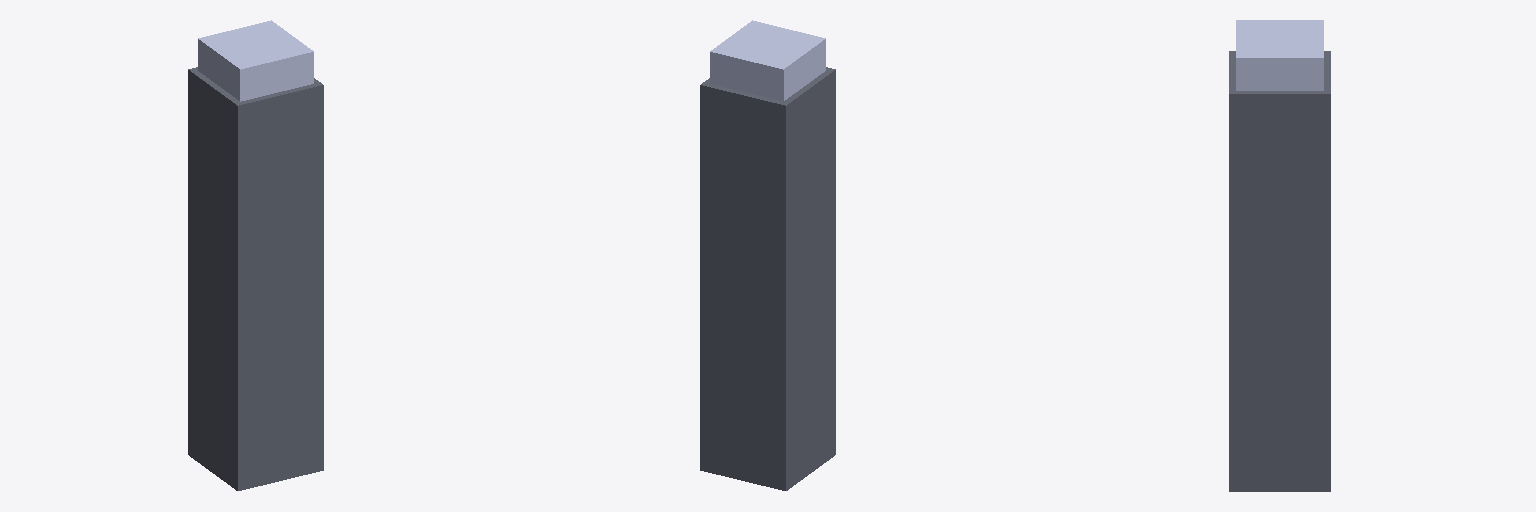
The robot description file, URDF, robot "arm_sim":
<?xml version="1.0"?>
<!-- ==========================================================================
     arm_sim.urdf — simulation stand-in for the physical arm (armRosFile)
     ==========================================================================
     The SolidWorks export (armRosFile.urdf) has all joints fixed/zero-range
     and references STL meshes we don't have yet, so this file recreates the
     arm as a SIMULATABLE model:

       shoulder_flex : revolute about y-axis, -90..+90 deg (180 deg total)
                       positive = arm swings FORWARD (+x), matches v3 convention
       shoulder_abd  : revolute about x-axis, -90..+90 deg (180 deg total)
                       positive = arm swings OUT to the side
       elbow         : revolute, 0..150 deg, positive folds forearm forward.
                       If the physical arm's elbow isn't actuated yet, leave it;
                       the receiver simply won't command it.

     Masses/inertias approximated from the SolidWorks export. Geometry is
     primitive boxes until the real meshes/ folder is available — then the
     visual elements can be swapped for <mesh filename="meshes/..."/>.
     ========================================================================== -->
<robot name="arm_sim">

  <!-- fixed mounting column so the arm hangs at a visible height -->
  <link name="mount">
    <visual>
      <geometry><box size="0.14 0.14 0.60"/></geometry>
      <origin xyz="0 0 0.30"/>
      <material name="gray"><color rgba="0.45 0.47 0.52 1"/></material>
    </visual>
    <inertial><mass value="5.0"/><inertia ixx="0.1" iyy="0.1" izz="0.05" ixy="0" ixz="0" iyz="0"/></inertial>
  </link>

  <!-- base plate = arm_link in the SolidWorks export (mass 0.628 kg) -->
  <joint name="base_fix" type="fixed">
    <parent link="mount"/><child link="arm_base"/>
    <origin xyz="0 0 0.60"/>
  </joint>
  <link name="arm_base">
    <visual>
      <geometry><box size="0.12 0.12 0.05"/></geometry>
      <origin xyz="0 0 0.025"/>
      <material name="steel"><color rgba="0.79 0.82 0.93 1"/></material>
    </visual>
    <inertial><mass value="0.628"/><inertia ixx="0.0016" iyy="0.0016" izz="0.0012" ixy="0" ixz="0" iyz="0"/></inertial>
  </link>

  <!-- ============ 2-DOF SHOULDER: 180 deg about y, 180 deg about x ======== -->
  <joint name="shoulder_flex" type="revolute">
    <parent link="arm_base"/><child link="shoulder_link"/>
    <origin xyz="0 0 0"/><axis xyz="0 -1 0"/>
    <limit lower="-1.5708" upper="1.5708" effort="30" velocity="6"/>
  </joint>
  <link name="shoulder_link">
    <inertial><mass value="0.05"/><inertia ixx="1e-4" iyy="1e-4" izz="1e-4" ixy="0" ixz="0" iyz="0"/></inertial>
  </link>

  <joint name="shoulder_abd" type="revolute">
    <parent link="shoulder_link"/><child link="bicep"/>
    <origin xyz="0 0 0"/><axis xyz="1 0 0"/>
    <limit lower="-1.5708" upper="1.5708" effort="30" velocity="6"/>
  </joint>

  <!-- bicep = upper segment (bicep_Link, 0.245 kg; export puts the elbow
       assembly ~12.6 cm along the arm — segment drawn 20 cm for visibility) -->
  <link name="bicep">
    <visual>
      <geometry><box size="0.055 0.055 0.20"/></geometry>
      <origin xyz="0 0 -0.10"/>
      <material name="steel"/>
    </visual>
    <collision><geometry><box size="0.055 0.055 0.20"/></geometry><origin xyz="0 0 -0.10"/></collision>
    <inertial><mass value="0.245"/><origin xyz="0 0 -0.10"/><inertia ixx="0.0011" iyy="0.0011" izz="0.0005" ixy="0" ixz="0" iyz="0"/></inertial>
  </link>

  <!-- elbow = the gear-driven joint in the export (big_gear/small_gear about x) -->
  <joint name="elbow" type="revolute">
    <parent link="bicep"/><child link="forearm"/>
    <origin xyz="0 0 -0.20"/><axis xyz="0 -1 0"/>
    <limit lower="0" upper="2.618" effort="30" velocity="6"/>
  </joint>
  <link name="forearm">
    <visual>
      <geometry><box size="0.045 0.045 0.18"/></geometry>
      <origin xyz="0 0 -0.09"/>
      <material name="cream"><color rgba="1 0.95 0.91 1"/></material>
    </visual>
    <collision><geometry><box size="0.045 0.045 0.18"/></geometry><origin xyz="0 0 -0.09"/></collision>
    <inertial><mass value="0.158"/><origin xyz="0 0 -0.09"/><inertia ixx="0.0003" iyy="0.0003" izz="0.0001" ixy="0" ixz="0" iyz="0"/></inertial>
  </link>

</robot>

--- What the picture shows (computed from the rendered views, not written in the file) ---
Views: 3 orthographic renders of the robot side by side, from view 1: azimuth 30°, elevation 25°; view 2: azimuth 150°, elevation 25°; view 3: azimuth 270°, elevation 25°.
Model arm_sim with 5 links and 4 joints (3 revolute, 1 fixed), rooted at mount, posed every joint at zero.
Visible links, largest first — view 1: mount, arm_base; view 2: mount, arm_base; view 3: mount, arm_base.
Link boxes in pixels (x1,y1,x2,y2): mount: (188, 67, 323, 490); arm_base: (198, 20, 313, 101); mount: (700, 67, 835, 490); arm_base: (710, 20, 825, 101); mount: (1229, 51, 1330, 491); arm_base: (1236, 20, 1323, 90).
Size in the robot's own frame: 0.14 by 0.14 by 0.65 metres.
Geometry: primitives only (box / cylinder / sphere), no mesh files.
